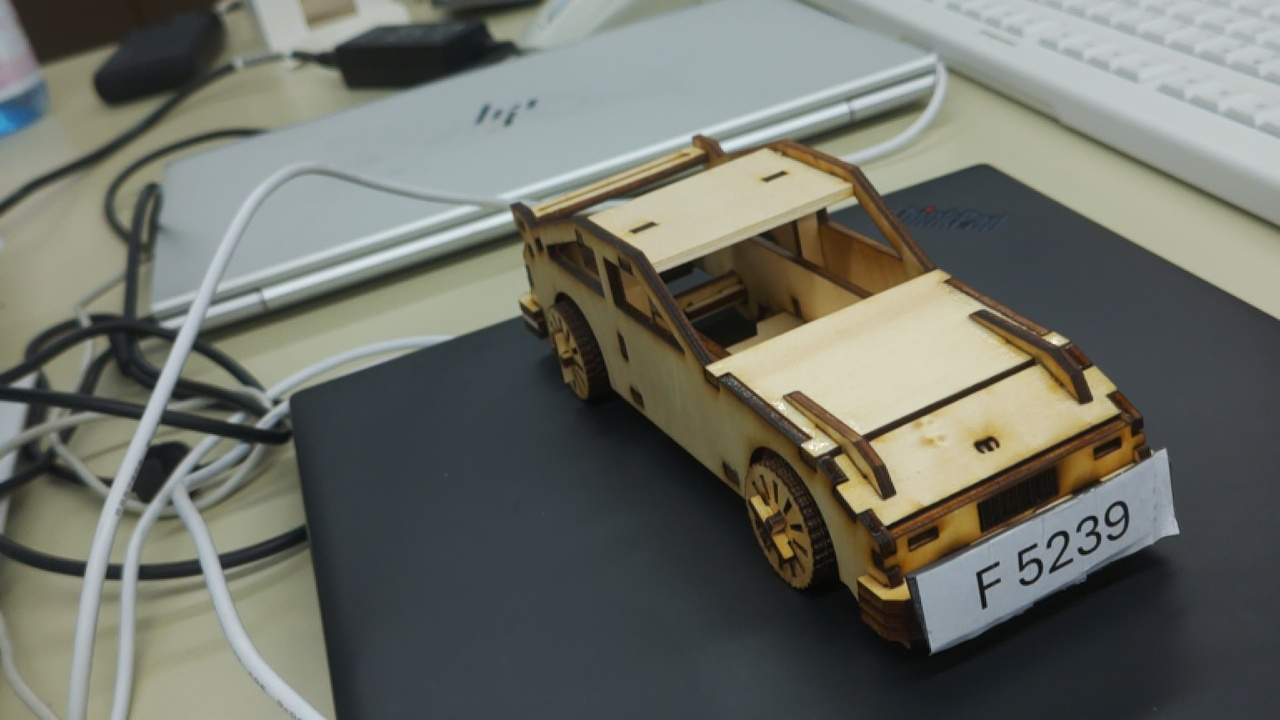license_plate: (912, 443, 1183, 669)
